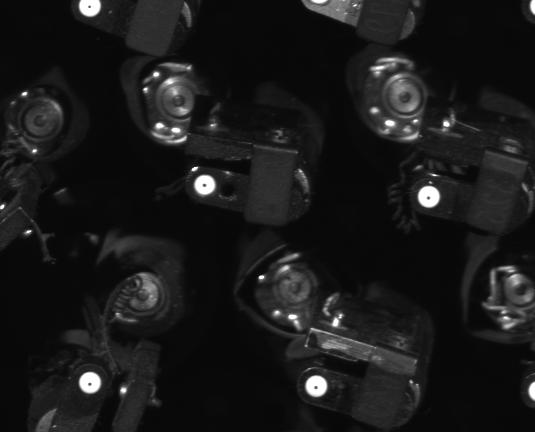fiber: (303, 372, 332, 404), (415, 183, 444, 213), (192, 172, 219, 200), (76, 369, 104, 395), (75, 1, 104, 19)
